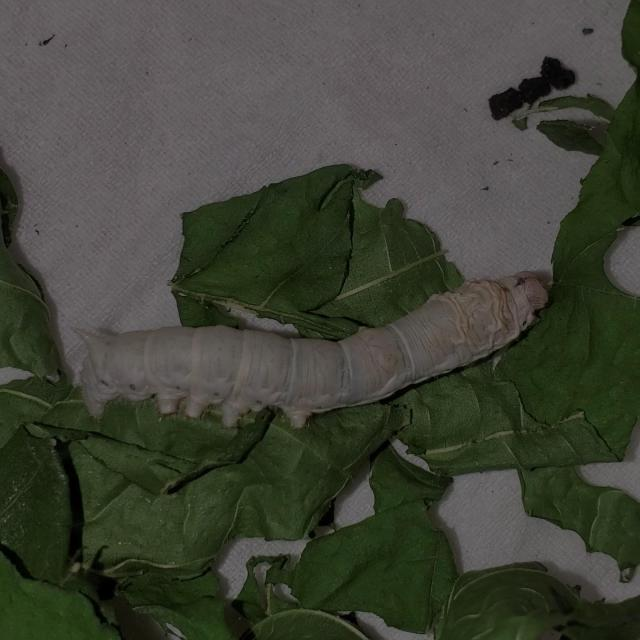Healthy: (61, 254, 583, 424)
